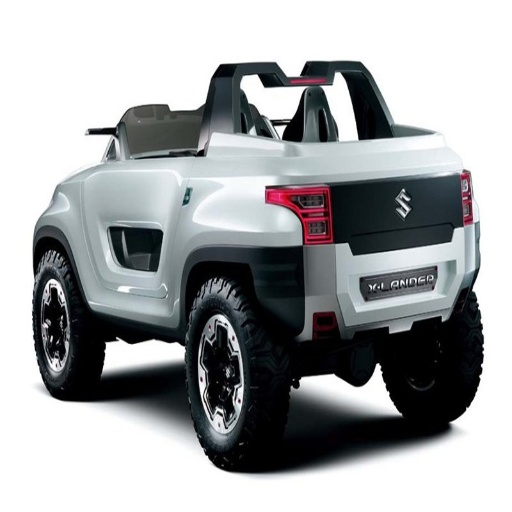back_bumper: (281, 226, 479, 336)
trunk: (309, 150, 458, 292), (106, 175, 205, 325), (219, 243, 293, 330)
